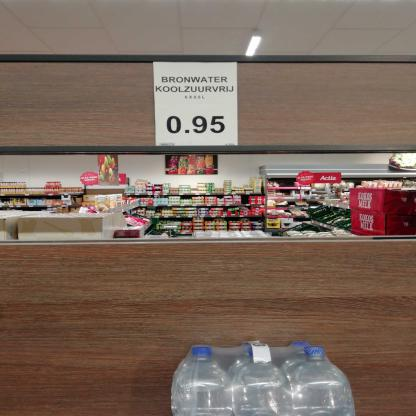prtg: (154, 63, 240, 148)
